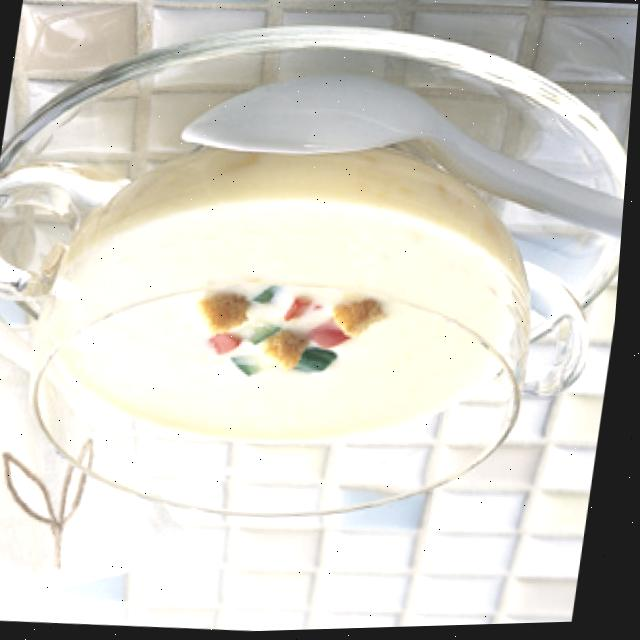汤锅炖物: (0, 230, 611, 562)
